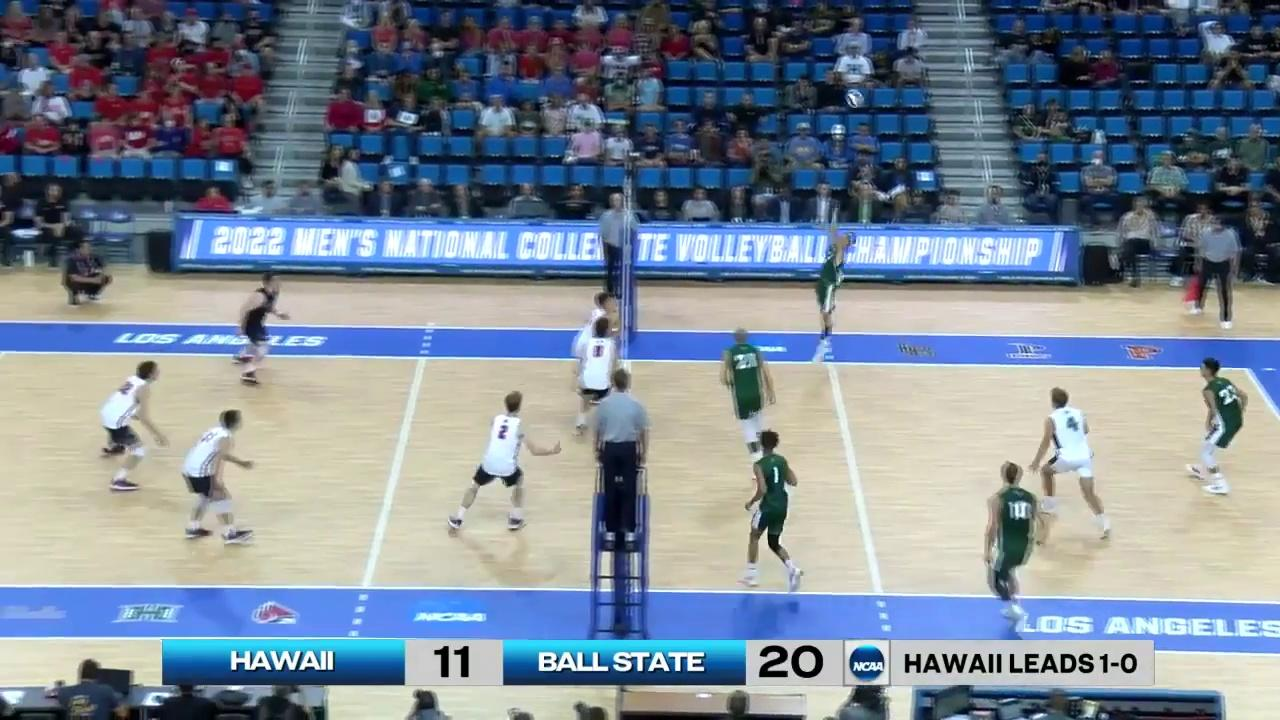player: (1036, 388, 1115, 537), (453, 392, 530, 531), (185, 410, 262, 543), (741, 431, 803, 590), (981, 464, 1040, 626), (101, 360, 167, 491), (719, 328, 775, 480), (1185, 356, 1244, 496), (235, 268, 289, 389), (572, 316, 619, 442), (810, 227, 852, 364), (576, 292, 620, 409)
refree: (594, 368, 648, 536), (1190, 215, 1235, 327), (598, 194, 637, 304)
